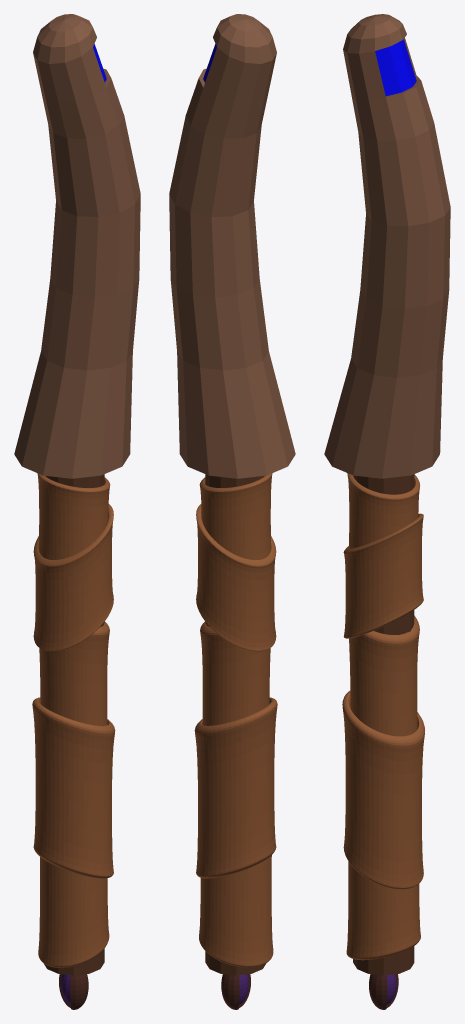
Rendered from Wand 347.glb.
3 renders of one model, left to right at view 1: azimuth 30°, elevation 25°; view 2: azimuth 150°, elevation 25°; view 3: azimuth 330°, elevation 25°, orthographic.
Visible parts, largest first — view 1: GeneratedWand; view 2: GeneratedWand; view 3: GeneratedWand.
Part boxes in pixels (x1,y1,x2,y2): GeneratedWand: (14,14,140,1009); GeneratedWand: (169,14,295,1009); GeneratedWand: (324,14,450,1009).
Bounding box in the file's own units: 0.0644 × 0.5393 × 0.0572.
